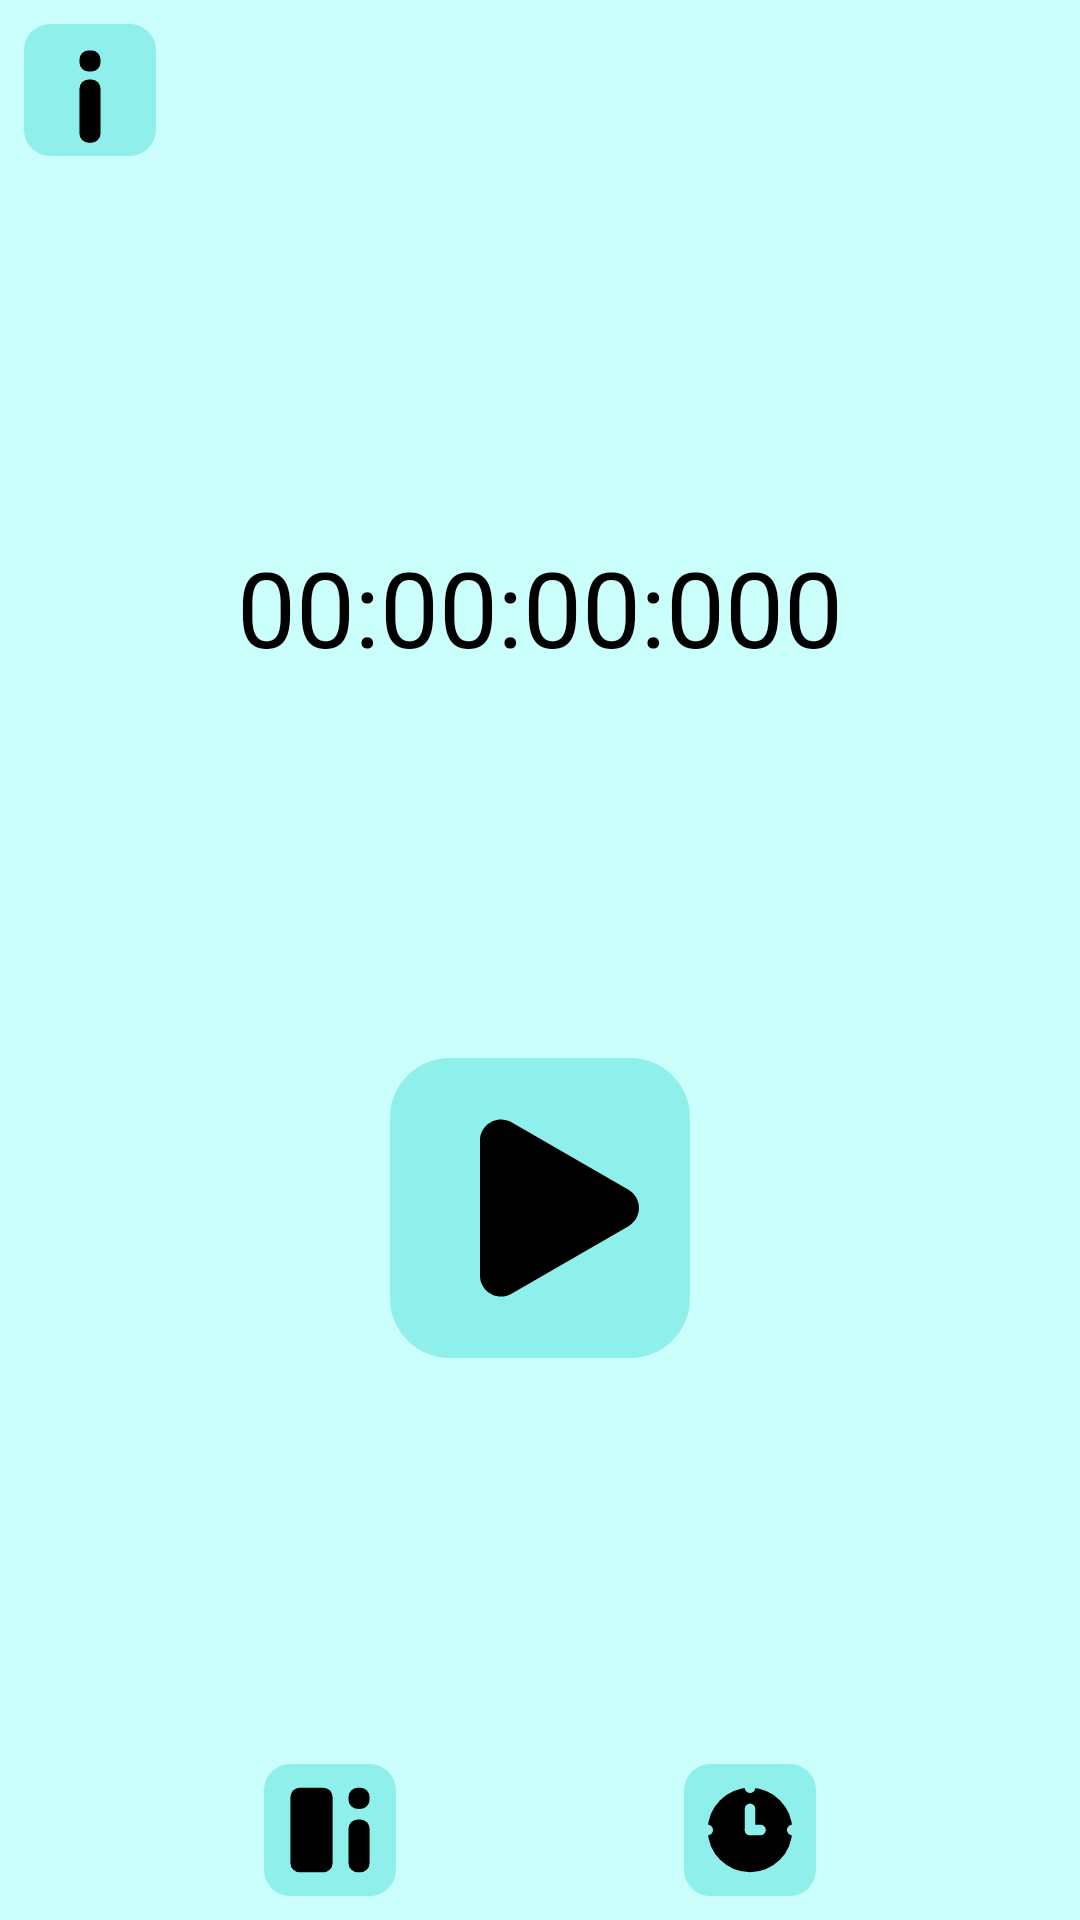

Screen size 1080x1920. Icon name, then its center in pixels as point (x, y):
inf: point (90, 90)
start: point (540, 1208)
timer: point (750, 1830)
